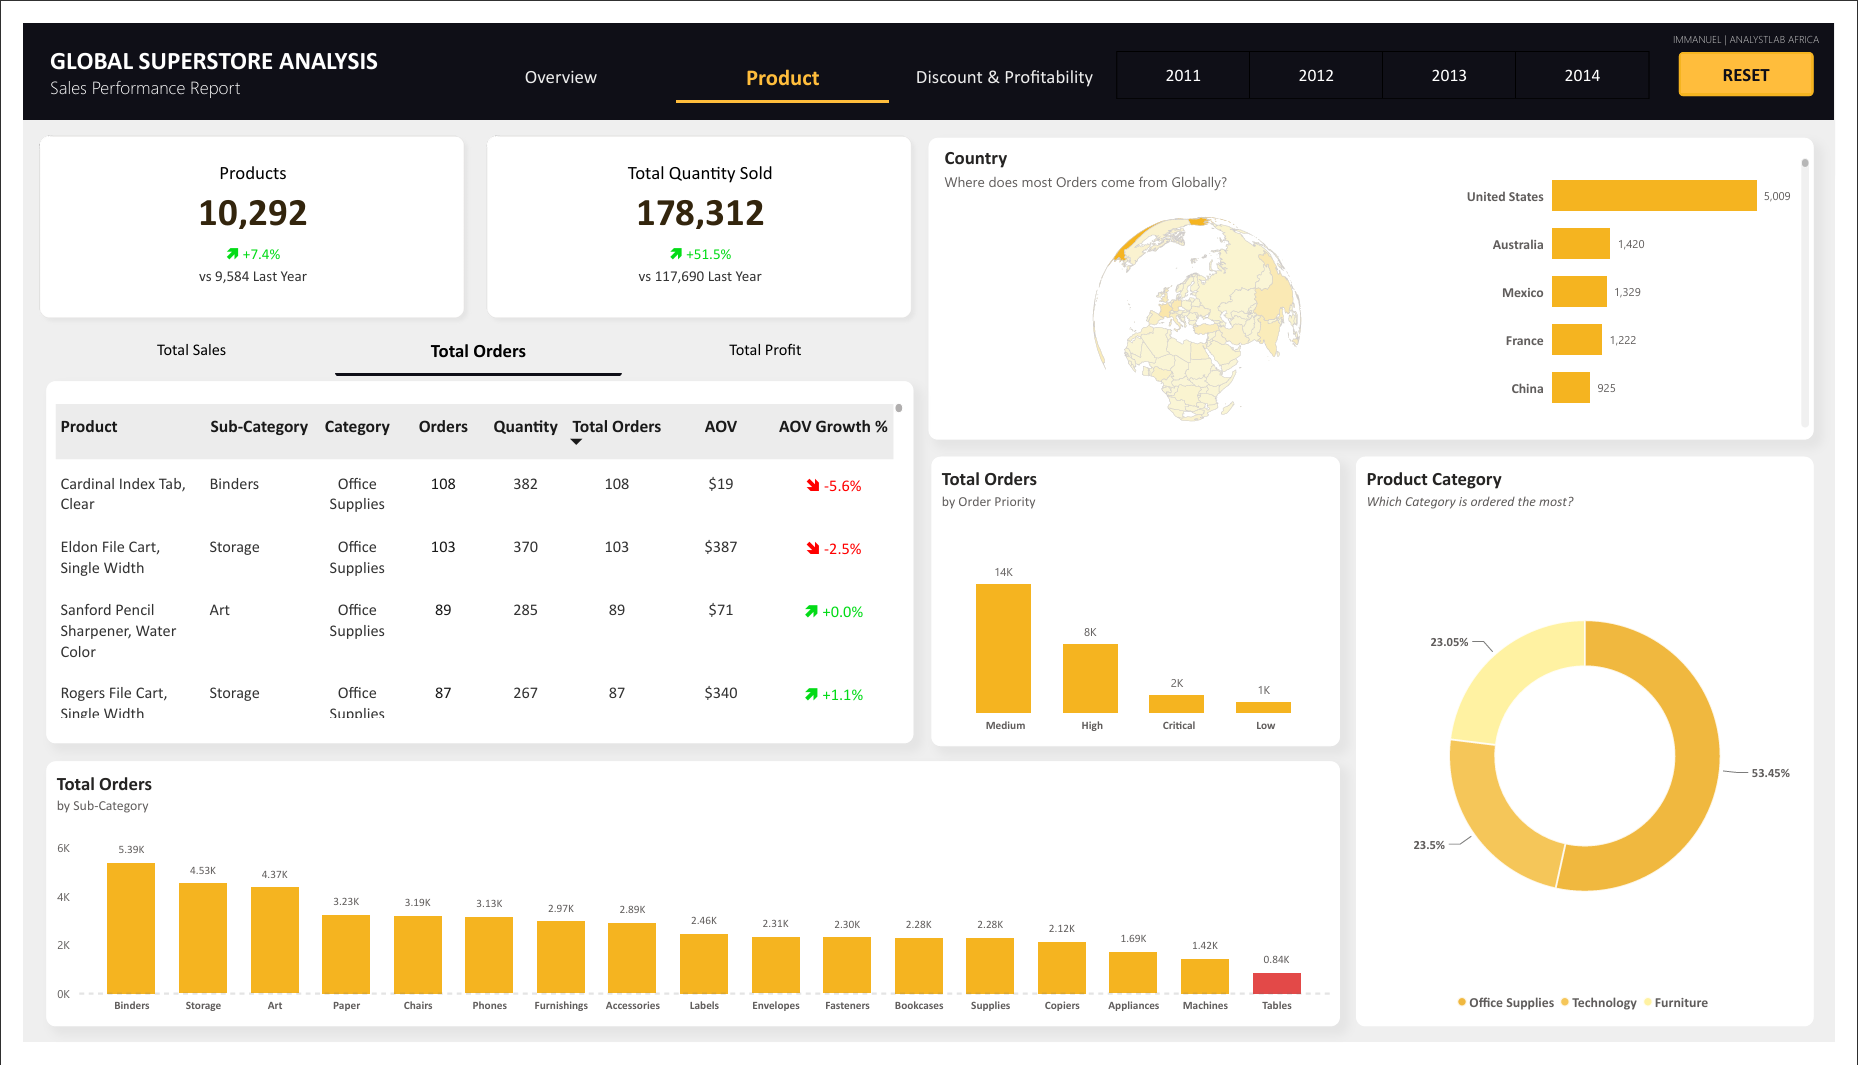

What the dashboard file says about the page in this screenshot:
{"tool":"powerbi","page":{"name":"Product","canvas":[1920,1080],"ordinal":1},"visuals":[{"type":"shape","box":[0,0,1919.3,102.2],"z":0},{"type":"advancedSlicerVisual","fields":{"Values":["Calender.Year"]},"box":[1153.5,24.3,576.9,60.5],"z":1000},{"type":"textbox","box":[22.7,18.2,372.2,67.5],"z":2000},{"type":"actionButton","box":[1754.2,29.8,143,47.7],"z":3000},{"type":"shape","box":[959.2,120.8,937.9,319.7],"z":4000},{"type":"pageNavigator","box":[457.1,18.9,696.3,66.3],"z":5000},{"type":"shape","box":[23.7,379,919,383.7],"z":6000},{"type":"tableEx","title":"Where is Sales coming from Globally?","fields":{"Values":["Product Dim.Product Name","Product Dim.Sub-Category","Product Dim.Category","Sales Fact.Order ID","Sum(Sales Fact.Quantity)","_Measures.Total Orders","_Measures.Avg Order Value","_Measures.AOV Growth %"]},"box":[30.8,388.4,902.4,362.4],"z":7000},{"type":"advancedSlicerVisual","fields":{"Values":["Dim_Parameter.Dim_Parameter"]},"box":[21.3,312.6,921.3,66.3],"z":8000},{"type":"clusteredBarChart","fields":{"Category":["Location Dim.Country"],"Y":["_Measures.Total Orders"]},"box":[1511.1,130.3,386.1,303.2],"z":9000},{"type":"shapeMap","title":"Country","fields":{"Category":["Location Dim.Country"],"Value":["_Measures.Total Orders"]},"box":[975.8,130.3,535.3,303.2],"z":10000},{"type":"clusteredColumnChart","fields":{"Category":["Order Dim.Order Priority"],"Y":["_Measures.Total Orders"]},"box":[961.6,459.5,433.8,306.6],"z":11000},{"type":"textbox","box":[1743.3,2.2,176.1,30.8],"z":12000},{"type":"lineClusteredColumnComboChart","fields":{"Category":["Product Dim.Sub-Category"],"Y":["_Measures.Total Orders"]},"box":[23.7,781.6,1371.3,281.8],"z":13000},{"type":"donutChart","title":"Product Category","fields":{"Category":["Product Dim.Category"],"Y":["_Measures.Total Orders"]},"box":[1411.6,459.5,485.5,604],"z":14000},{"type":"cardVisual","fields":{"Data":["_Measures.Products","_Measures.Total Quantity Sold"]},"box":[0,101.8,959.2,227.4],"z":15000}]}

Visuals, with their boxes in screenshot pixels (x1, y1, x2, y2), scaled from the page's 1920x1080 canvas onto the 1858x1065 screenshot:
shape: 0 0 1857 101
advancedSlicerVisual - Calender.Year: 1116 24 1675 84
textbox: 22 18 382 85
actionButton: 1698 29 1836 76
shape: 928 119 1836 434
pageNavigator: 442 19 1116 84
shape: 23 374 912 752
"Where is Sales coming from Globally?" tableEx: 30 383 903 740
advancedSlicerVisual - Dim_Parameter.Dim_Parameter: 21 308 912 374
clusteredBarChart - Location Dim.Country x _Measures.Total Orders: 1462 128 1836 427
"Country" shapeMap: 944 128 1462 427
clusteredColumnChart - Order Dim.Order Priority x _Measures.Total Orders: 931 453 1350 755
textbox: 1687 2 1857 33
lineClusteredColumnComboChart - Product Dim.Sub-Category x _Measures.Total Orders: 23 771 1350 1049
"Product Category" donutChart: 1366 453 1836 1049
cardVisual - _Measures.Products x _Measures.Total Quantity Sold: 0 100 928 325
